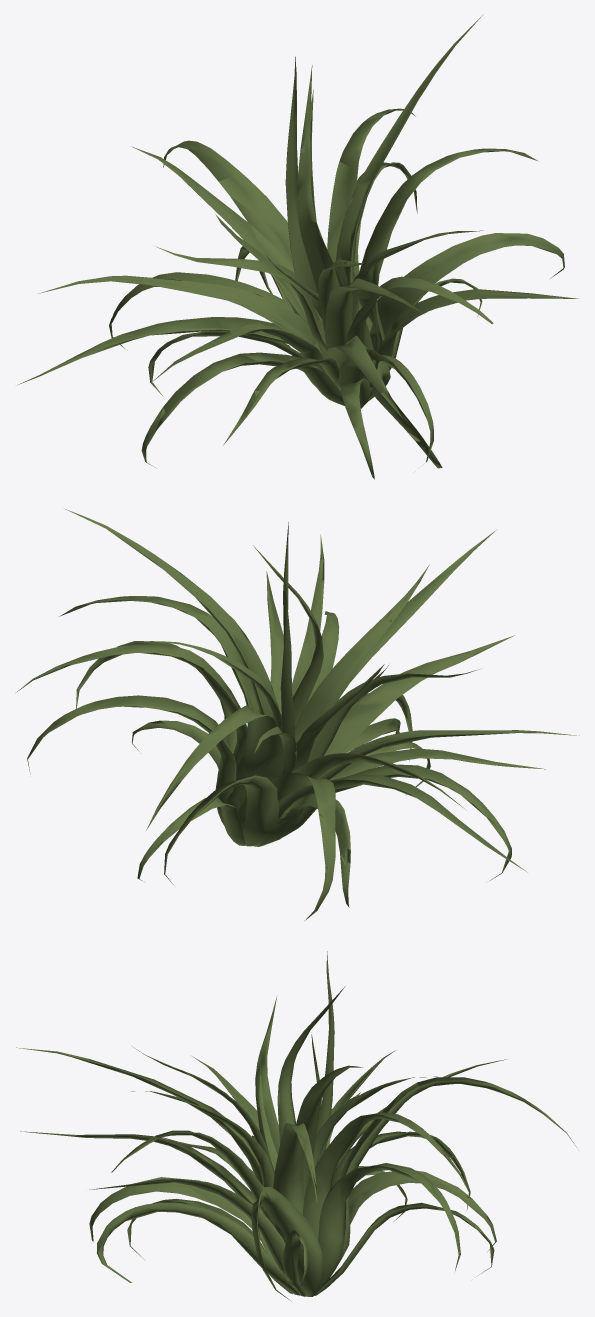
The model's file is air-tillandsia.glb.
The picture shows the model from 3 angles, top to bottom: view 1: azimuth 30°, elevation 25°; view 2: azimuth 150°, elevation 25°; view 3: azimuth 270°, elevation 25°; orthographic projection. The views are drawn at different scales.
Parts seen in each view (by area): view 1: plant; view 2: plant; view 3: plant.
Boxes of the visible parts, x1,y1,x2,y2 form: plant: [17, 14, 578, 479]; plant: [16, 509, 579, 920]; plant: [16, 951, 576, 1301].
Size of the model in its own units: 1.49 by 0.9998 by 1.58.
Materials: 1 (1 with a texture image).
